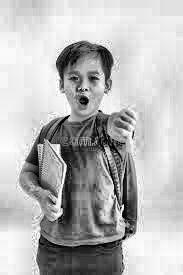angry: (51, 49, 113, 115)
